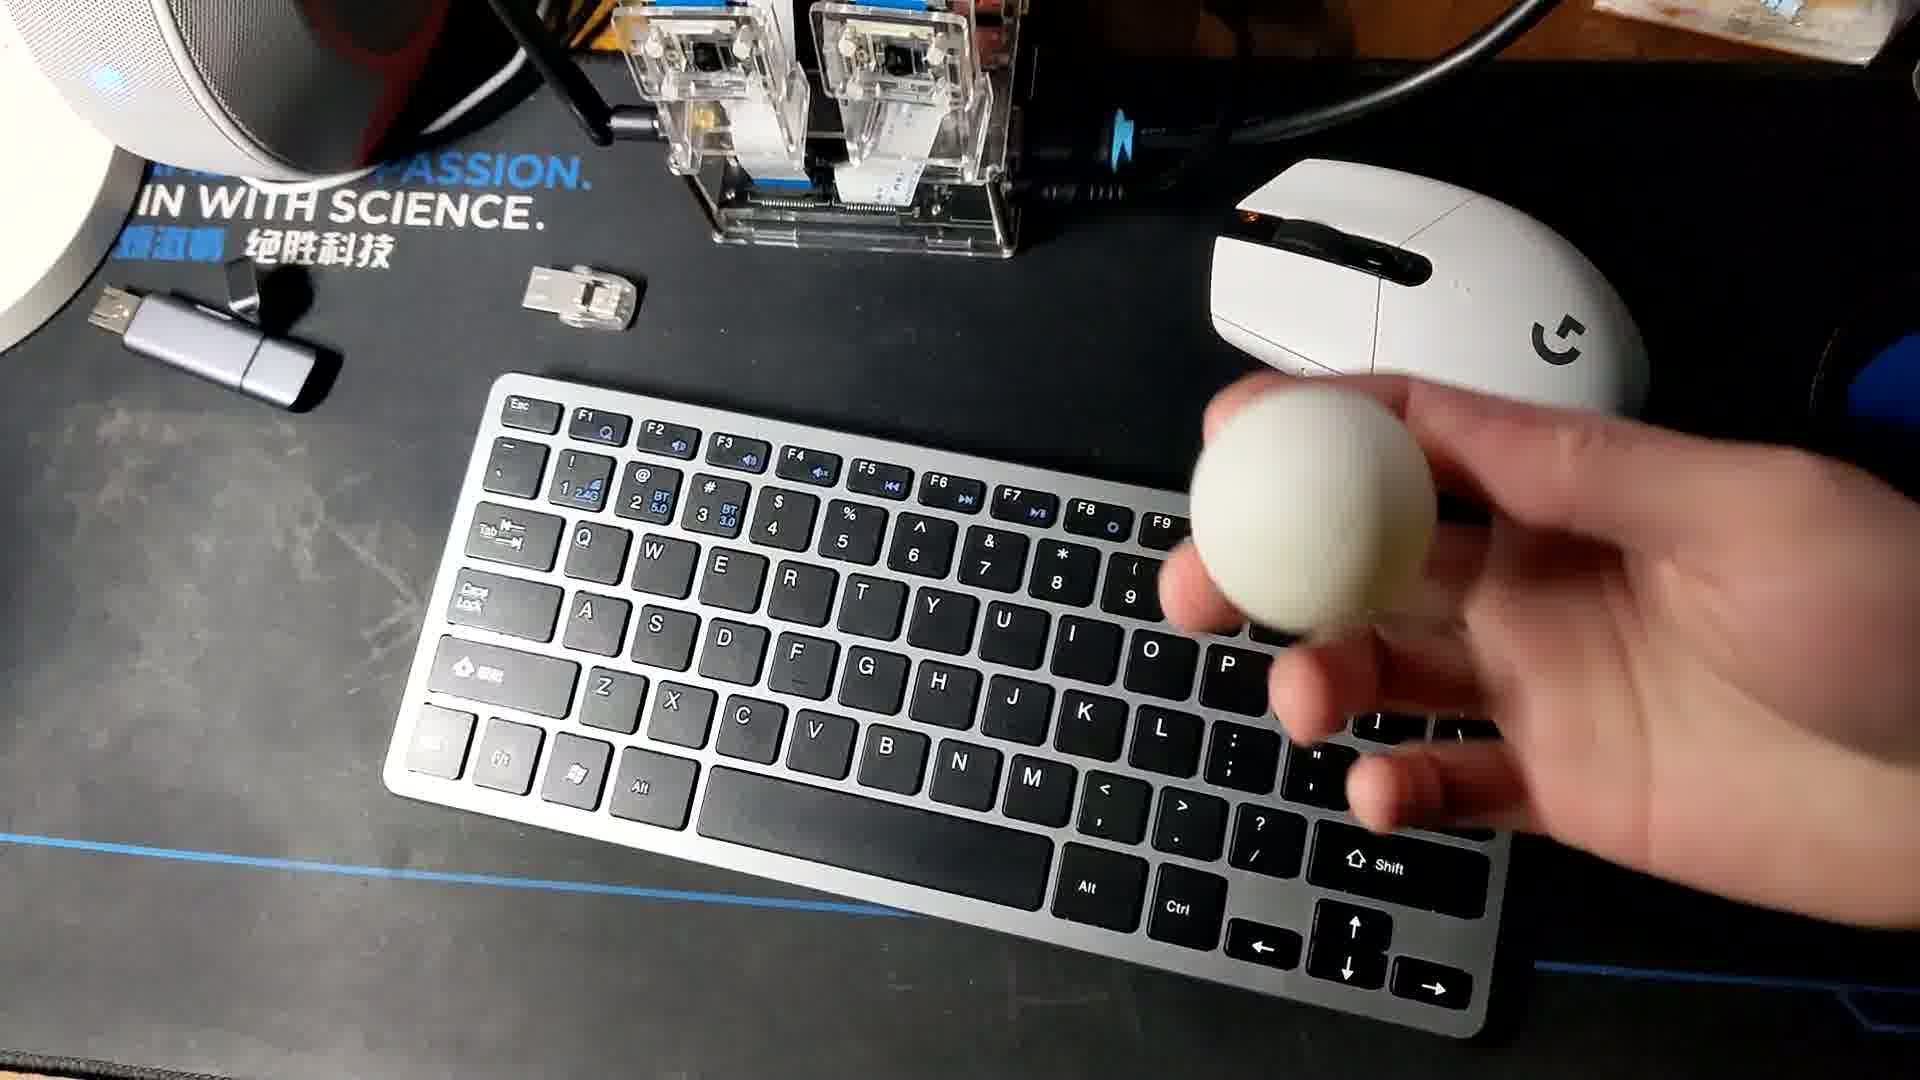Ball: (1193, 382, 1437, 622)
